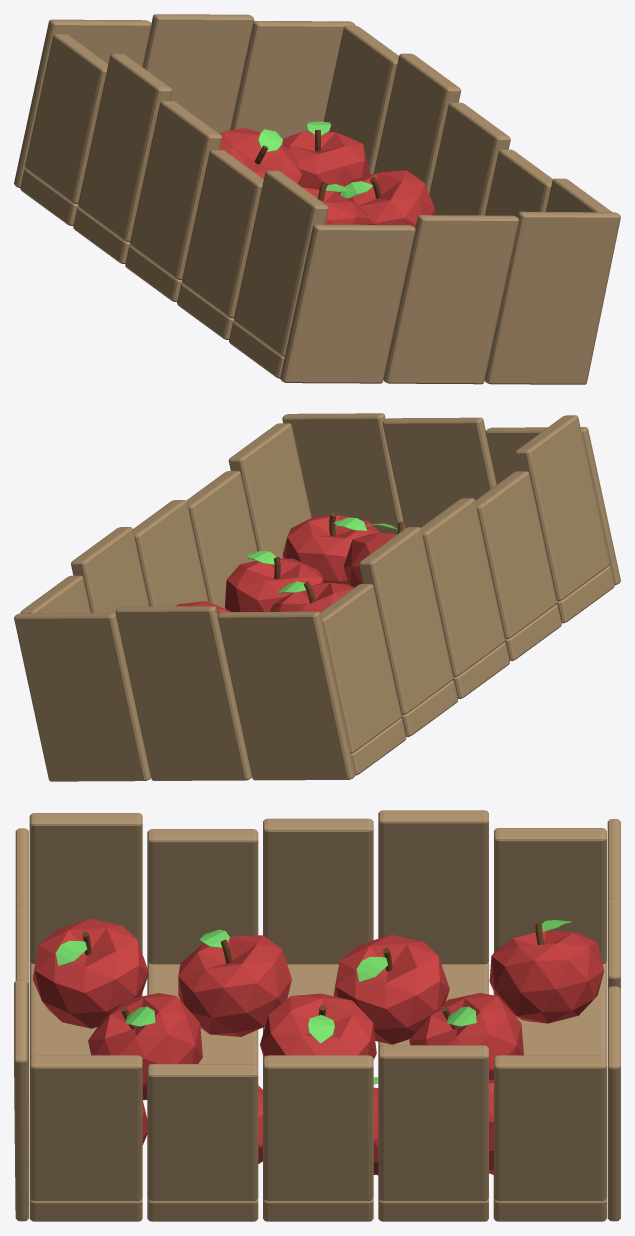
Rendered from AppleCase.fbx.
3 views of the same model, one above another, from view 1: azimuth 30°, elevation 25°; view 2: azimuth 150°, elevation 25°; view 3: azimuth 270°, elevation 25° (orthographic). The views are drawn at different scales.
Visible parts, largest first — view 1: Plane.034, Icosphere.005, Icosphere.002, Icosphere.011, Icosphere.009; view 2: Plane.034, Icosphere, Icosphere.001, Icosphere.009, Icosphere.007; view 3: Plane.034, Icosphere.004, Icosphere.008, Icosphere.014, Icosphere.010, Icosphere.007, Icosphere.009, Icosphere.011, Icosphere.002.
Boxes of the visible parts, x1,y1,x2,y2 form: Plane.034: [14, 14, 620, 384]; Icosphere.005: [282, 121, 370, 194]; Icosphere.002: [339, 170, 434, 228]; Icosphere.011: [219, 128, 301, 184]; Icosphere.009: [302, 181, 368, 224]; Plane.034: [14, 413, 620, 781]; Icosphere: [282, 513, 379, 584]; Icosphere.001: [225, 550, 323, 611]; Icosphere.009: [270, 581, 354, 612]; Icosphere.007: [343, 521, 403, 587]; Plane.034: [14, 810, 620, 1221]; Icosphere.004: [33, 918, 148, 1028]; Icosphere.008: [178, 929, 291, 1036]; Icosphere.014: [489, 920, 604, 1023]; Icosphere.010: [333, 934, 449, 1044]; Icosphere.007: [88, 993, 202, 1100]; Icosphere.009: [260, 993, 376, 1059]; Icosphere.011: [409, 993, 523, 1079]; Icosphere.002: [373, 1077, 378, 1175].
Bounding box in the file's own units: 174 × 117 × 241.
